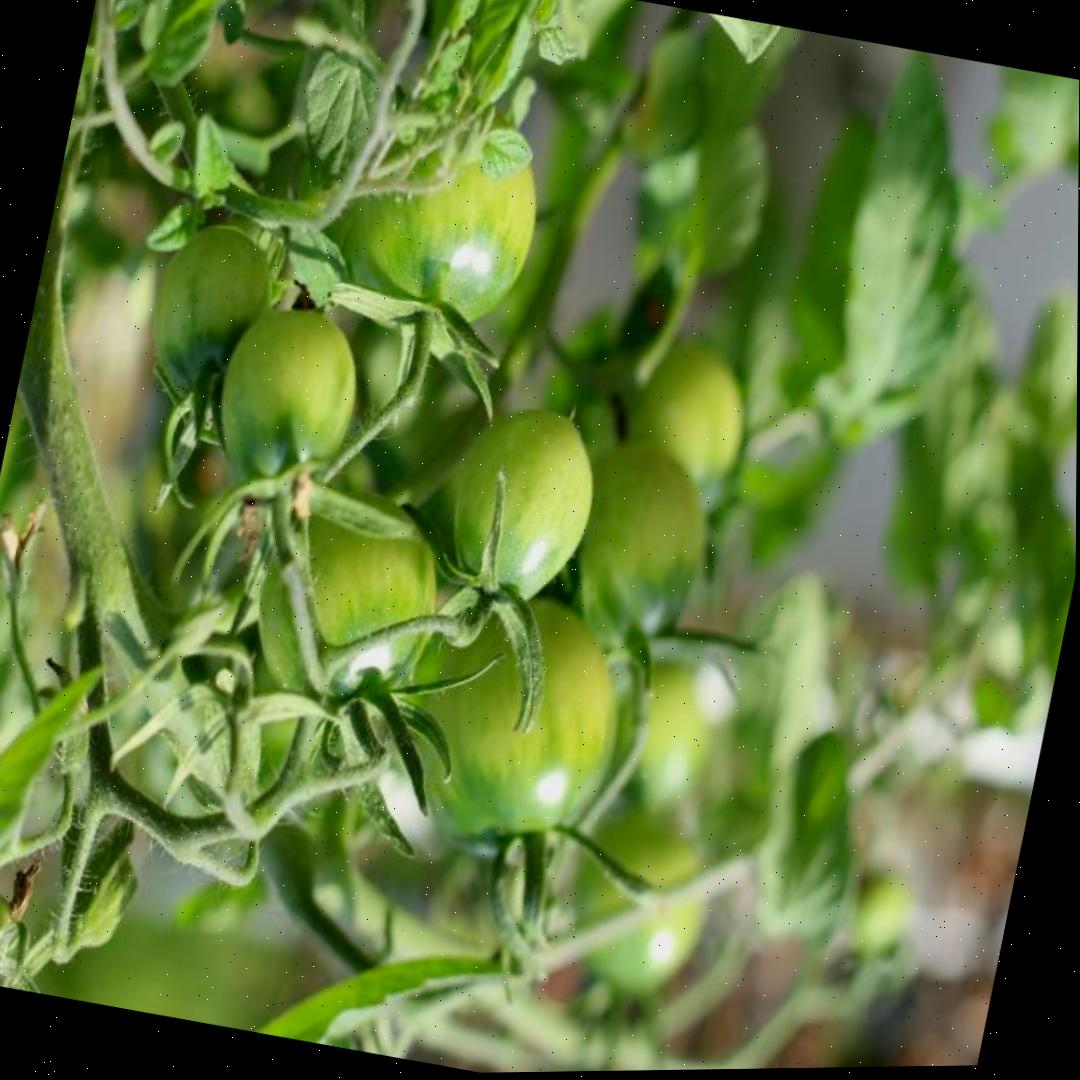mentah: (396, 574, 634, 882), (320, 86, 549, 351), (237, 473, 454, 737), (433, 391, 610, 619), (200, 294, 370, 511), (130, 214, 289, 427)
